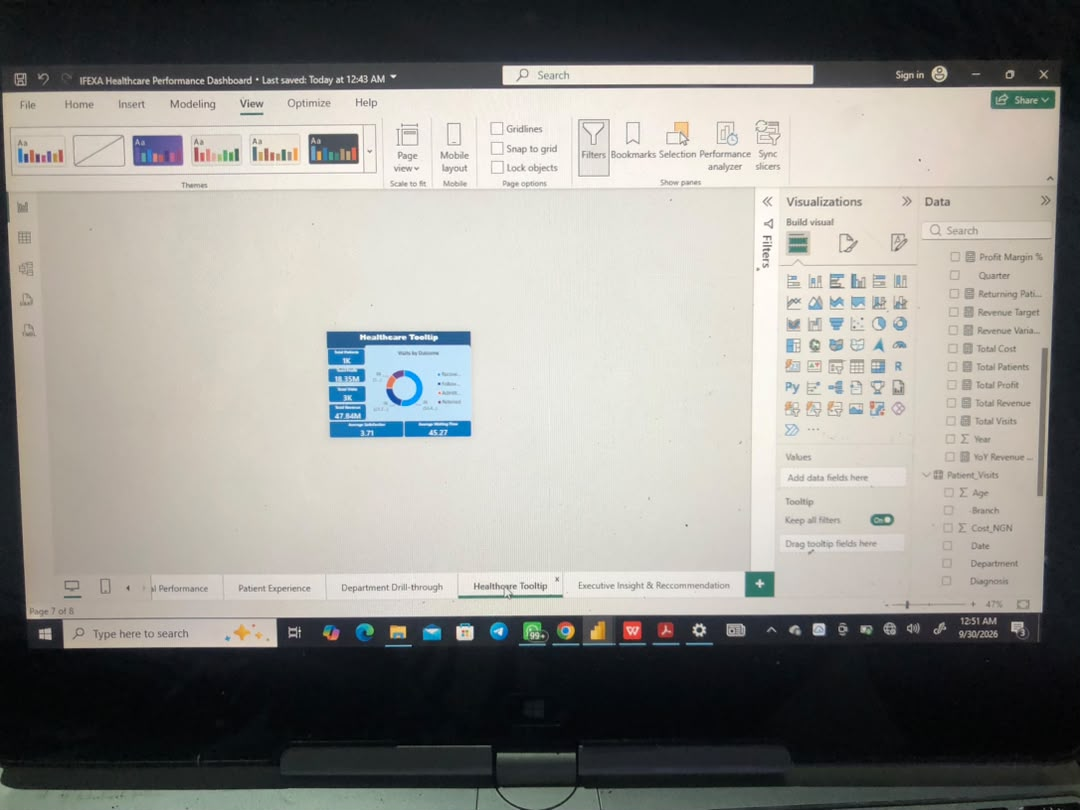

The page's visual inventory and layout, read from the dashboard file:
{"tool":"powerbi","page":{"name":"Healthcare Tooltip","canvas":[400,300],"ordinal":6},"visuals":[{"type":"textbox","box":[0,0,400,47],"z":0},{"type":"cardVisual","fields":{"Data":["Date_Table.Total Revenue"]},"box":[0,203,105,48],"z":1000},{"type":"cardVisual","fields":{"Data":["Date_Table.Total Profit"]},"box":[0,102,105,41],"z":2000},{"type":"cardVisual","fields":{"Data":["Date_Table.Total Patients"]},"box":[0,47,105,48],"z":3000},{"type":"cardVisual","fields":{"Data":["Date_Table.Total Visits"]},"box":[0,150,105,48],"z":4000},{"type":"cardVisual","fields":{"Data":["Date_Table.Average Waiting Time"]},"box":[209,251,191,49],"z":5000},{"type":"cardVisual","fields":{"Data":["Date_Table.Average Satisfaction"]},"box":[0,251,209,49],"z":6000},{"type":"donutChart","title":"Visits by Outcome","fields":{"Category":["Patient_Visits.Outcome"],"Y":["Date_Table.Total Visits"]},"box":[105,38,295,213],"z":6001}]}

Visuals, with their boxes on the page's 400x300 design canvas (x1, y1, x2, y2). These are canvas units, not pixel positions in the 1080x810 screenshot, which may show the page scaled, cropped or inside an application window:
textbox: (left=0, top=0, right=400, bottom=47)
cardVisual - Date_Table.Total Revenue: (left=0, top=203, right=105, bottom=251)
cardVisual - Date_Table.Total Profit: (left=0, top=102, right=105, bottom=143)
cardVisual - Date_Table.Total Patients: (left=0, top=47, right=105, bottom=95)
cardVisual - Date_Table.Total Visits: (left=0, top=150, right=105, bottom=198)
cardVisual - Date_Table.Average Waiting Time: (left=209, top=251, right=400, bottom=300)
cardVisual - Date_Table.Average Satisfaction: (left=0, top=251, right=209, bottom=300)
"Visits by Outcome" donutChart: (left=105, top=38, right=400, bottom=251)
